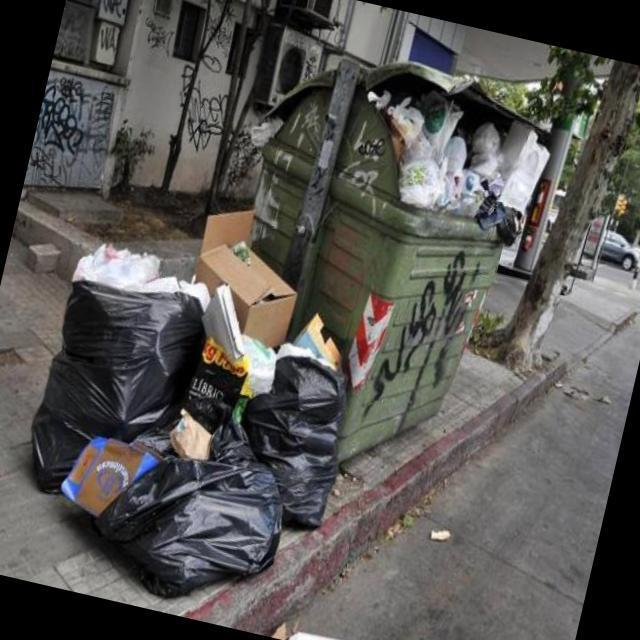garbage: (2, 233, 380, 630), (332, 58, 567, 253), (176, 192, 316, 340)
